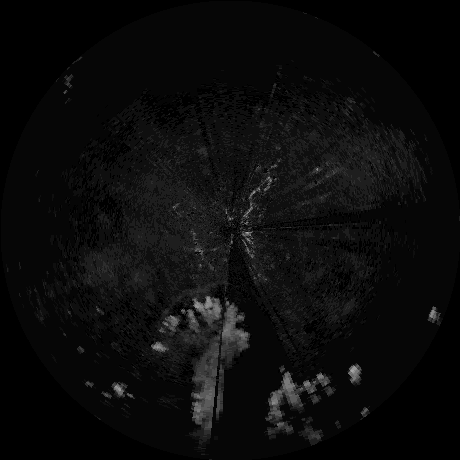frontgust: (164, 280, 225, 305)
